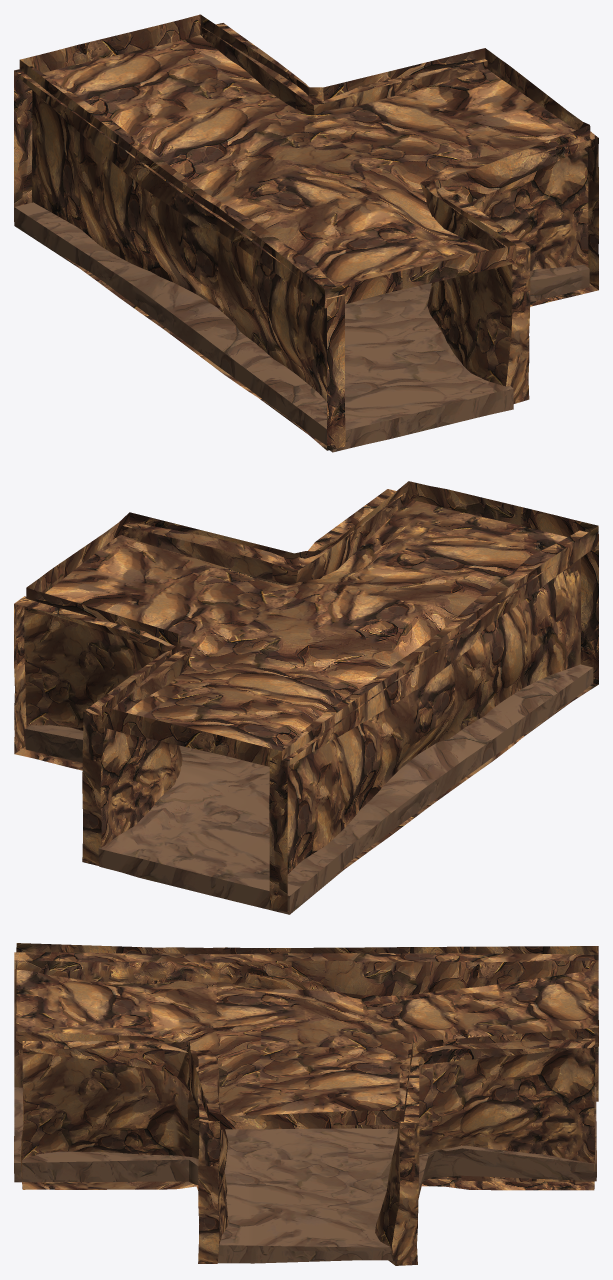
Rendered from T_Cave.fbx.
3 renders of one model, top to bottom at view 1: azimuth 30°, elevation 25°; view 2: azimuth 150°, elevation 25°; view 3: azimuth 270°, elevation 25°, orthographic. The views are drawn at different scales.
Visible parts, largest first — view 1: pCube11, pCube10, pCube6, pCube9, pCube7; view 2: pCube11, pCube10, pCube6, pCube7, pCube9; view 3: pCube11, pCube6, pCube7, pCube9, pCube10.
Boxes of the visible parts, x1=… form: pCube11: x1=19, y1=14, x2=590, y2=308; pCube10: x1=14, y1=66, x2=345, y2=450; pCube6: x1=14, y1=202, x2=589, y2=452; pCube9: x1=420, y1=131, x2=598, y2=403; pCube7: x1=202, y1=23, x2=487, y2=114; pCube11: x1=26, y1=481, x2=598, y2=766; pCube10: x1=269, y1=530, x2=598, y2=912; pCube6: x1=25, y1=664, x2=593, y2=914; pCube7: x1=14, y1=596, x2=192, y2=865; pCube9: x1=122, y1=489, x2=405, y2=584; pCube11: x1=16, y1=943, x2=598, y2=1129; pCube6: x1=14, y1=1087, x2=596, y2=1263; pCube7: x1=375, y1=1038, x2=595, y2=1265; pCube9: x1=20, y1=1040, x2=228, y2=1263; pCube10: x1=14, y1=952, x2=598, y2=1101.
Bounding box in the file's own units: 20.79 × 9.08 × 30.04.
Materials: 4 (4 with a texture image).
